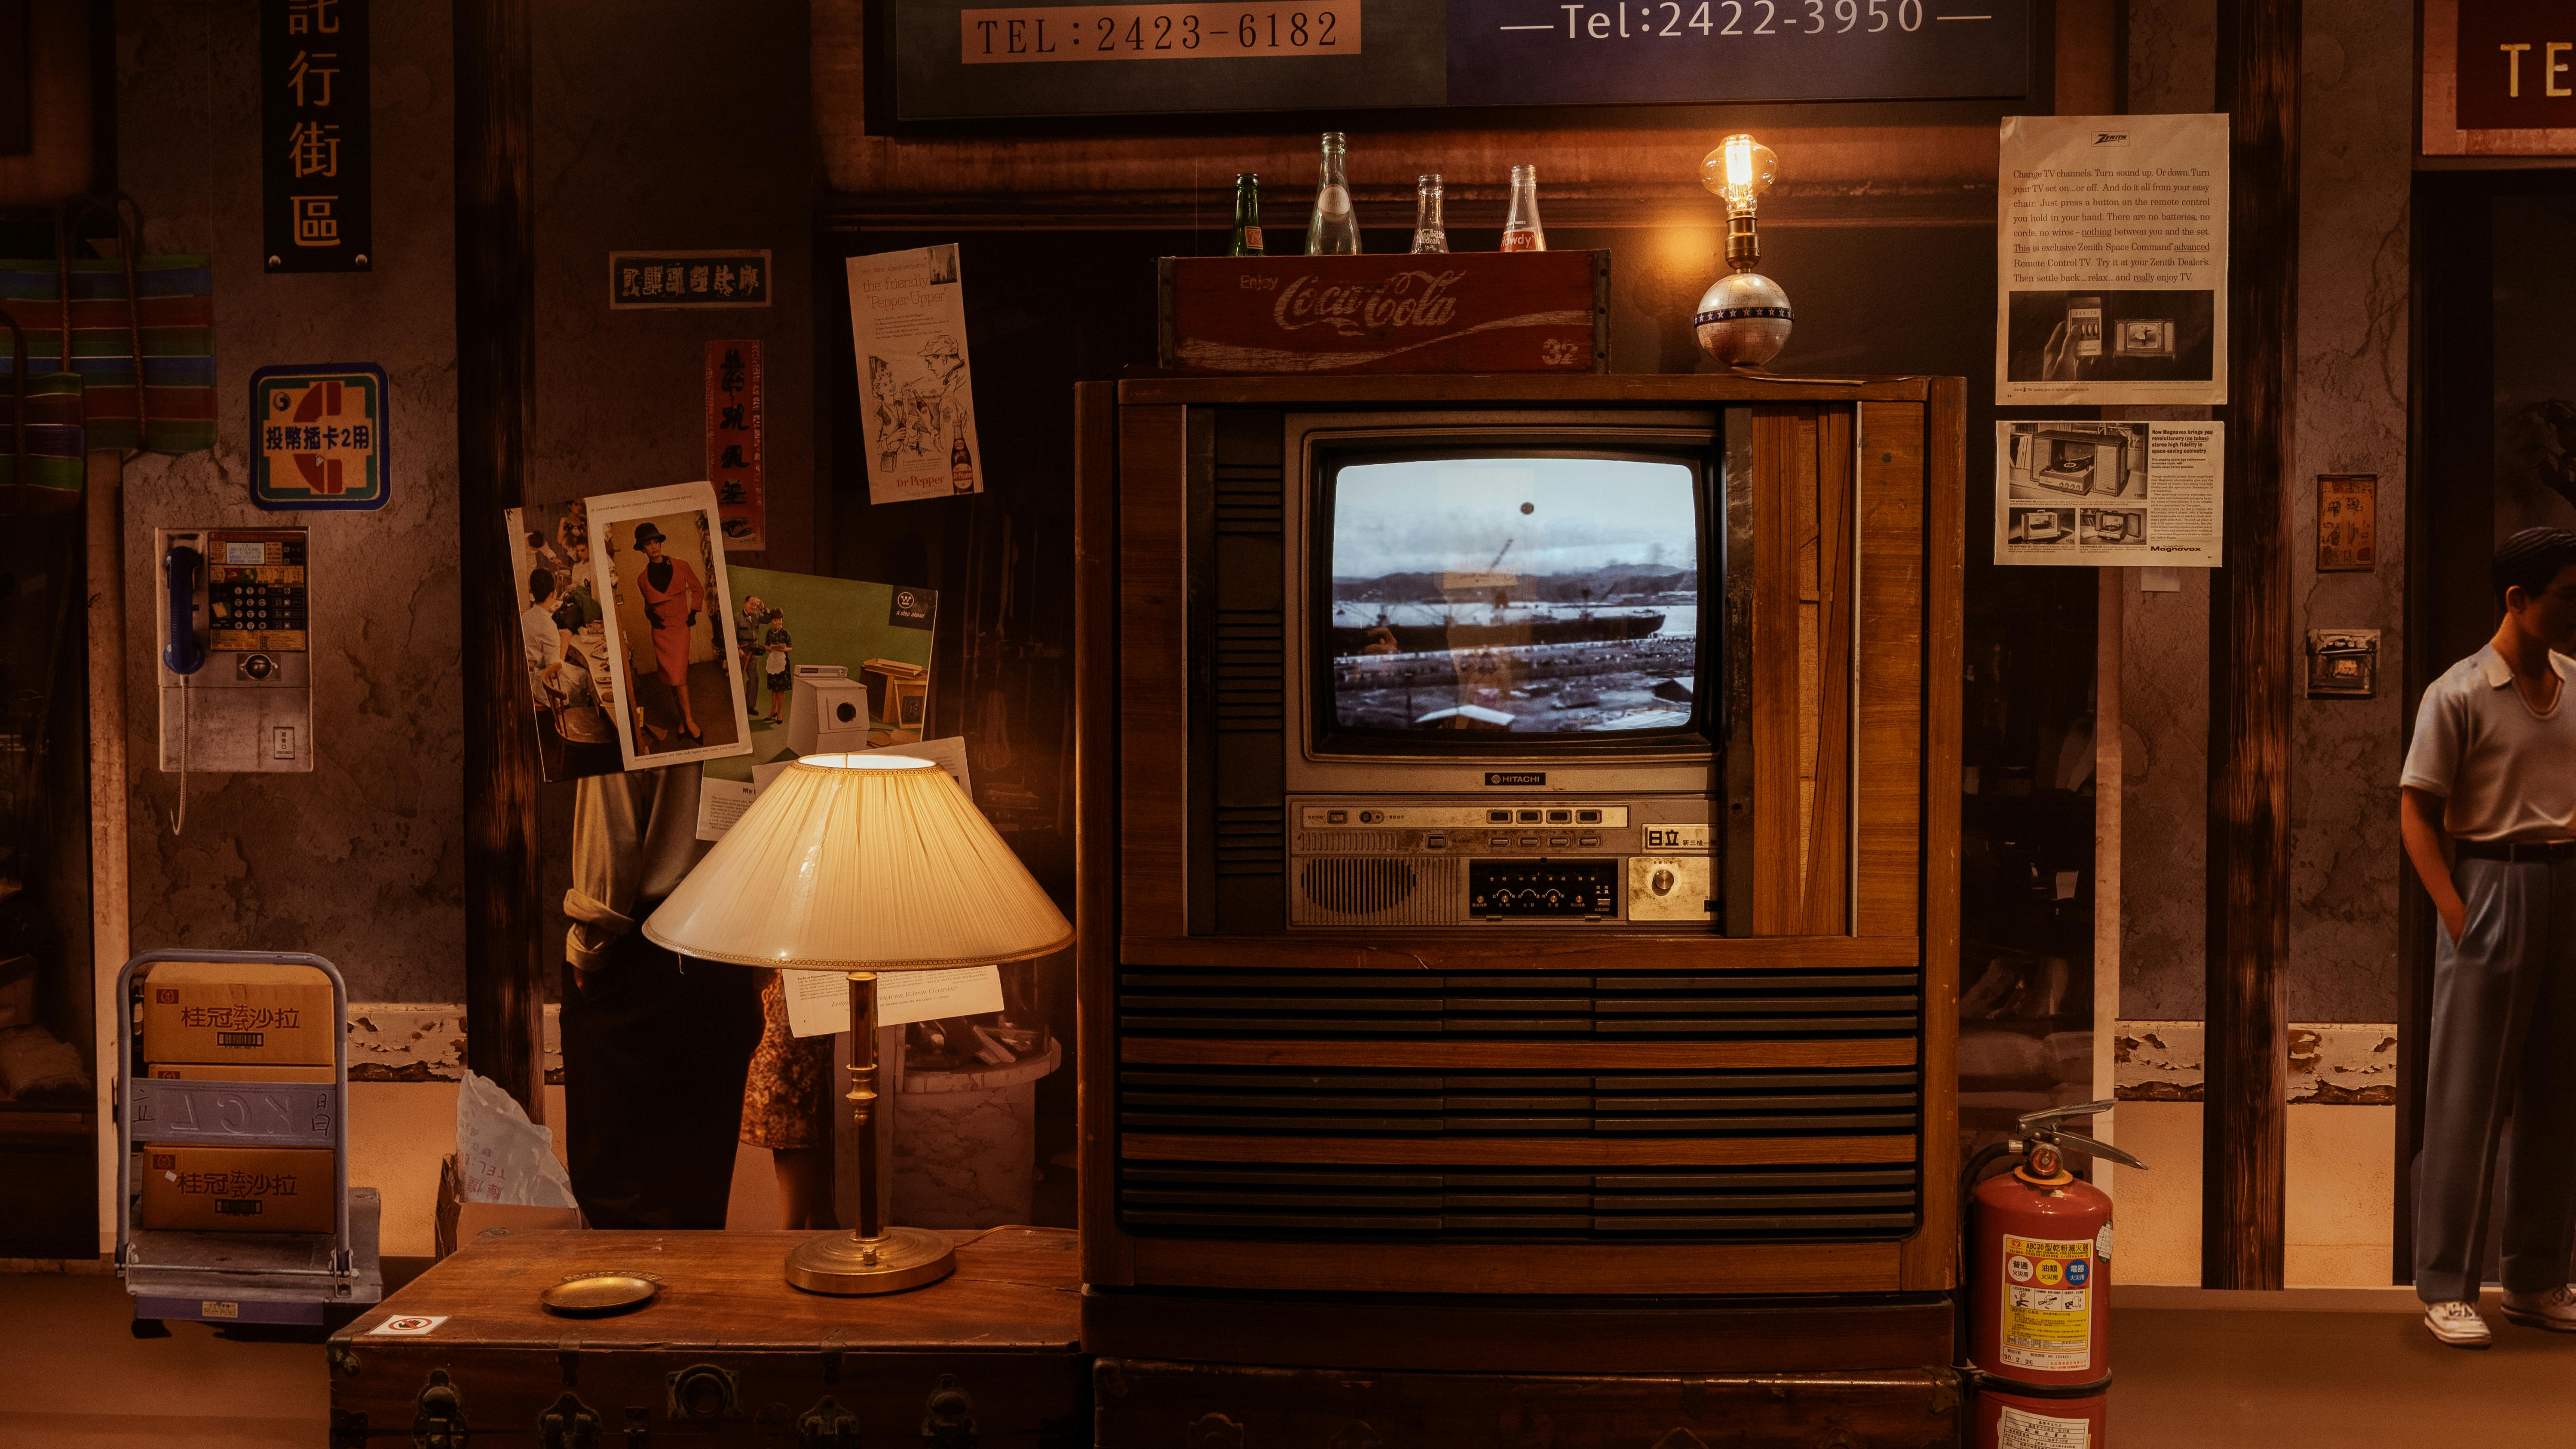extintor: (1946, 1083, 2144, 1403)
